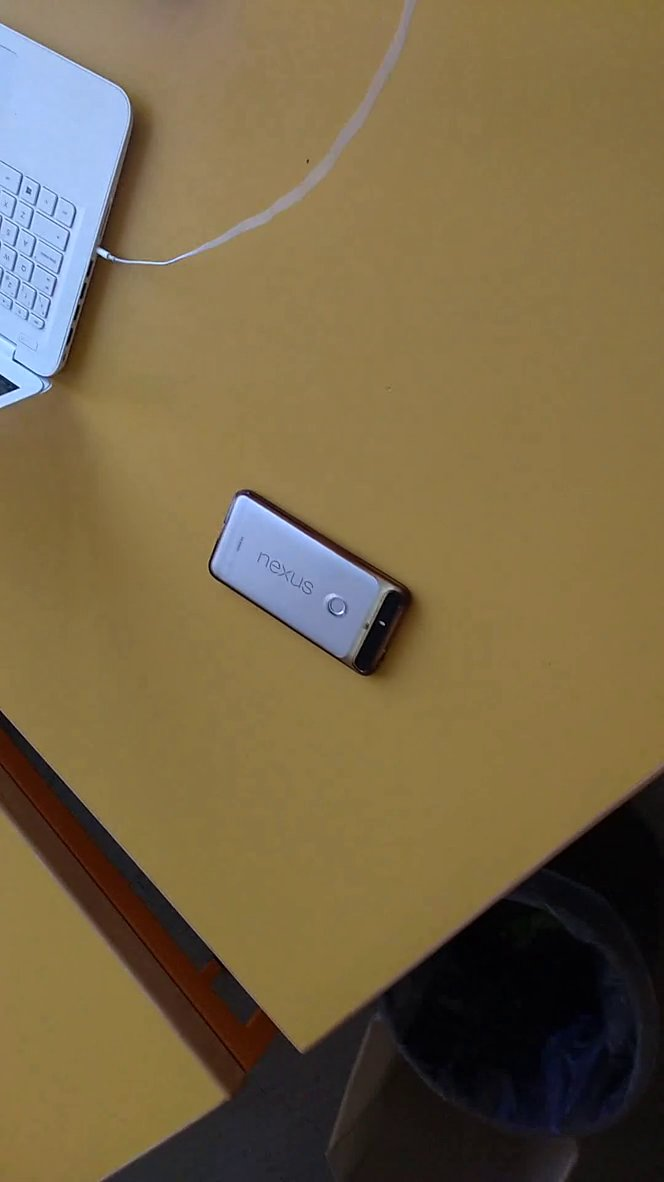phone: (186, 479, 441, 700)
